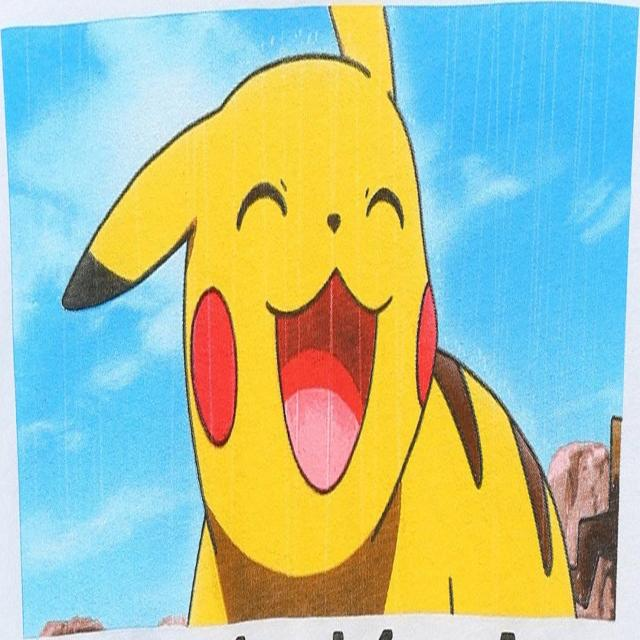pikachu: (61, 0, 576, 626)
